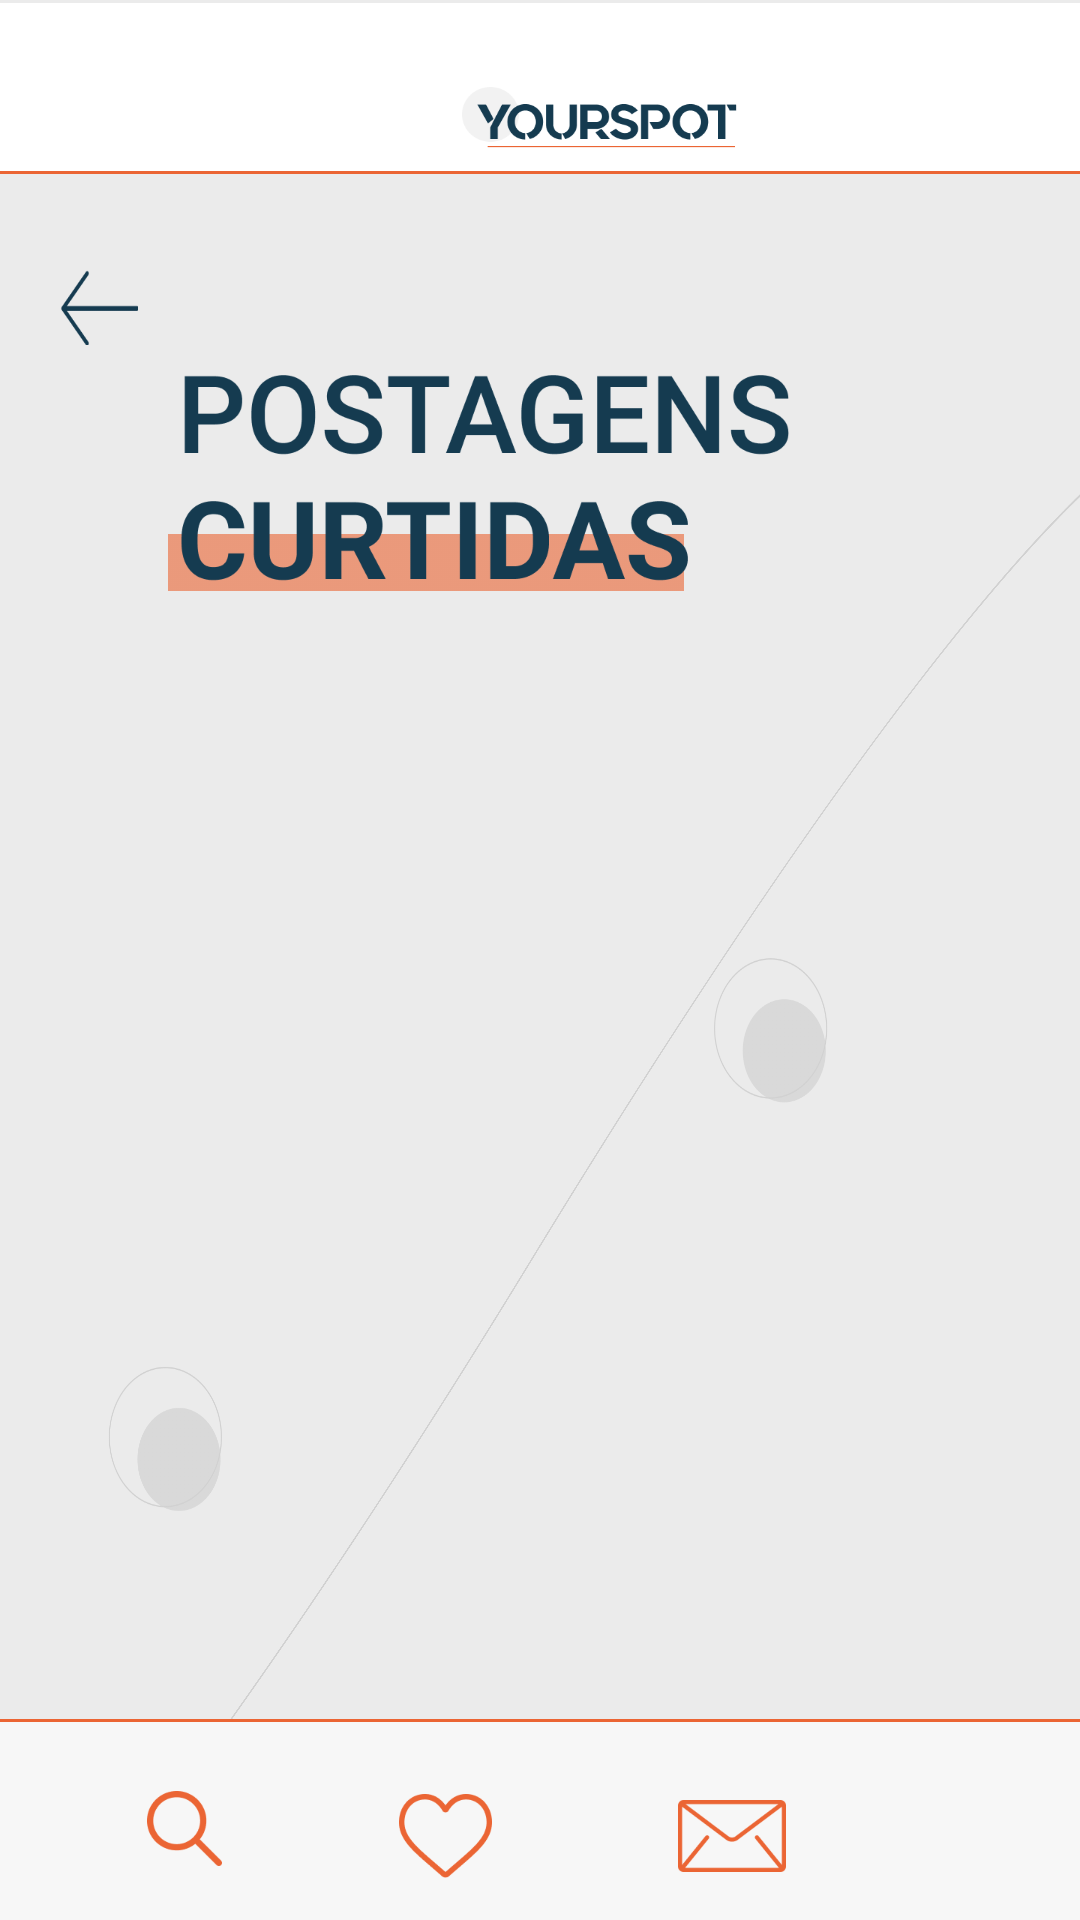

Where icons sit on this 1080*1920 app screen, as (x1, y1, x2, y2):
iconecoracao menuinf: (399, 1794, 492, 1878)
iconemensagem menuinf: (678, 1800, 786, 1872)
iconepesquisa menuinf: (147, 1791, 222, 1866)
seta retorno: (61, 271, 138, 345)
